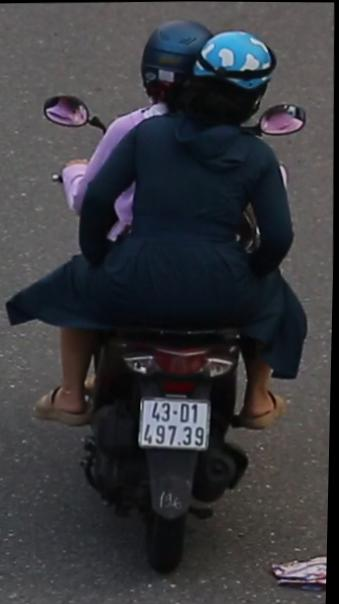LP: (137, 390, 216, 453)
helmet: (191, 24, 281, 130), (137, 14, 216, 101)
